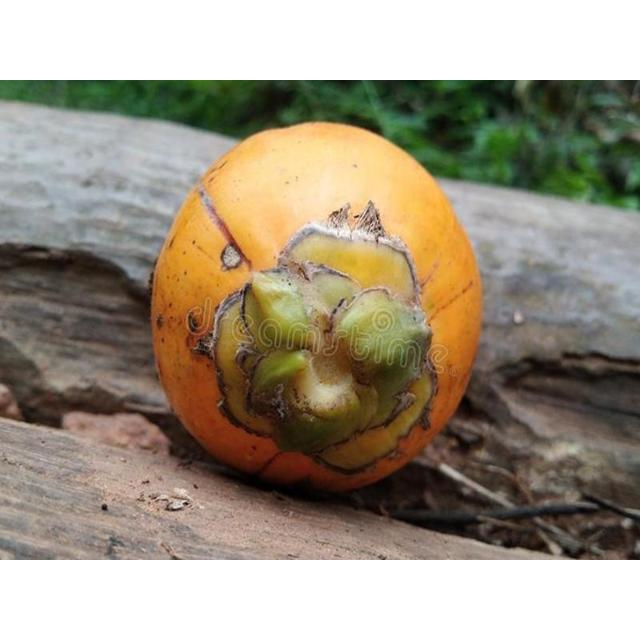good: (150, 122, 483, 498)
